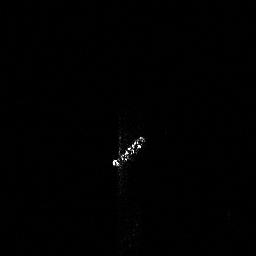ship: (108, 132, 150, 169)
